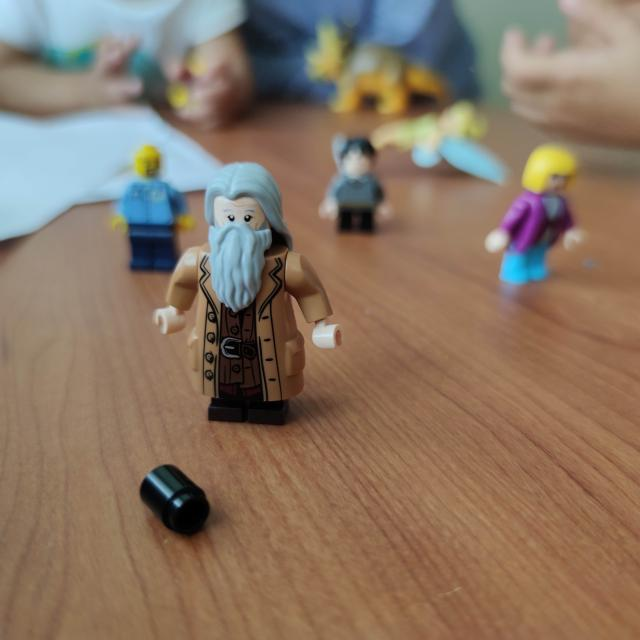lego: (154, 160, 346, 429), (477, 145, 585, 289), (111, 146, 200, 277), (319, 135, 395, 236)
